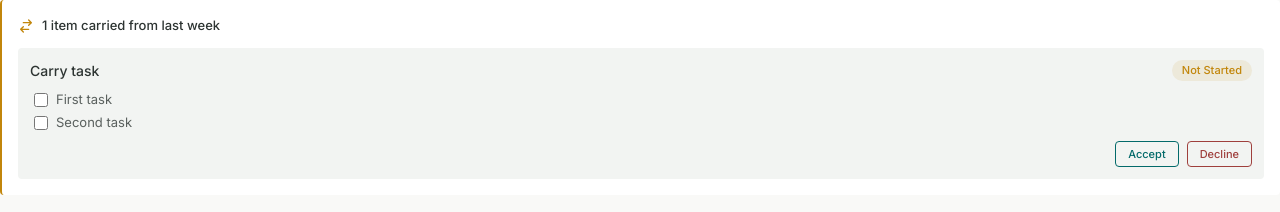
Test case: CarryForwardPanel › accept interaction › shows success toast after accepting an item
Click the button "Accept": [1147, 154] box [1115,141,1179,167]
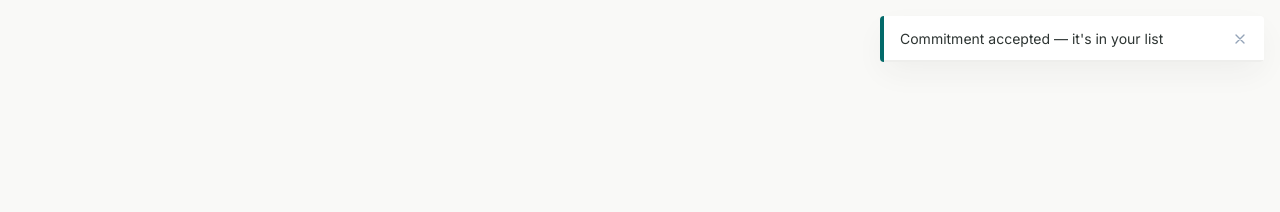
Expected: the text "Commitment accepted — it's in your list" is shown, [900,28,1163,50]
